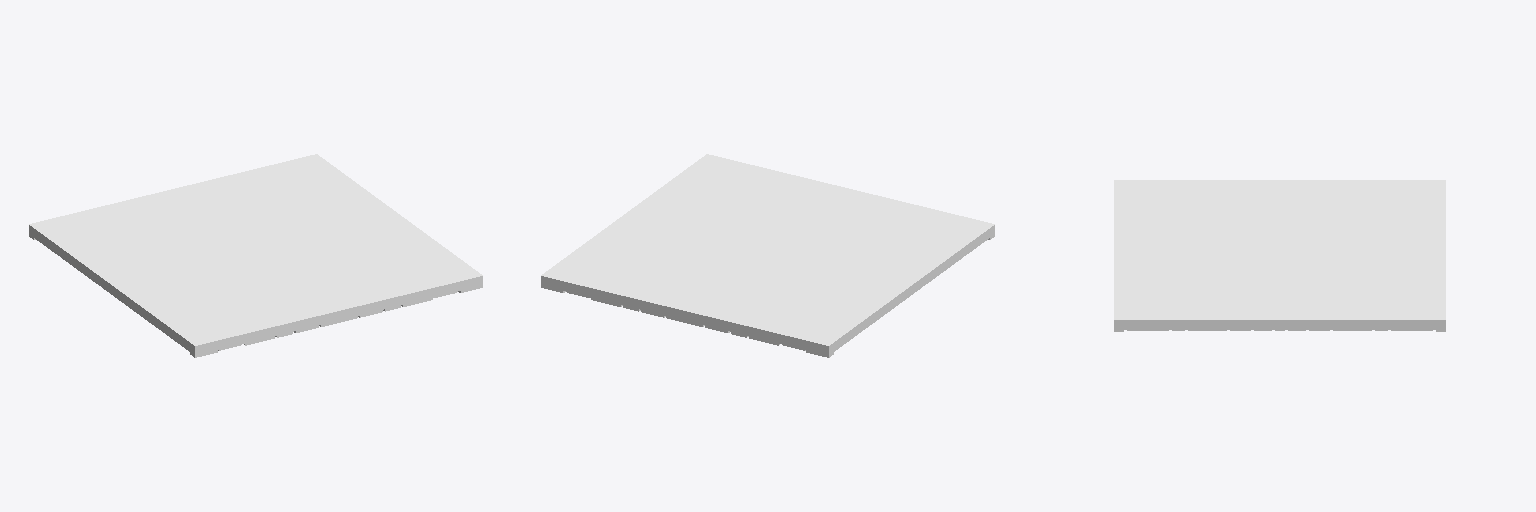
Rendered from sufit.obj.
3 renders of one model, left to right at view 1: azimuth 30°, elevation 25°; view 2: azimuth 150°, elevation 25°; view 3: azimuth 270°, elevation 25°, orthographic.
Parts seen in each view (by area): view 1: object 1; view 2: object 1; view 3: object 1.
Part boxes in pixels (left/top/right/bottom): object 1: left=29, top=154, right=482, bottom=357; object 1: left=541, top=154, right=994, bottom=357; object 1: left=1114, top=180, right=1445, bottom=331.
Size of the model in its own units: 12.6 by 0.5 by 12.6.